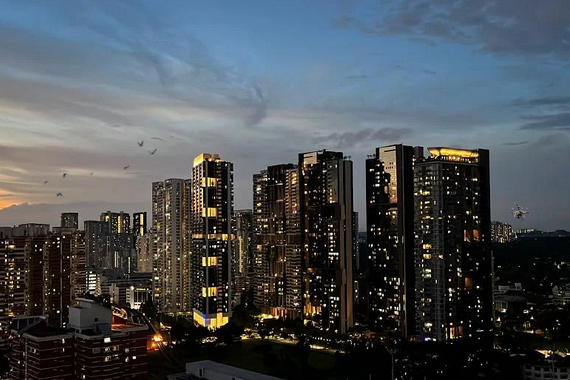drone_other: (510, 201, 530, 222)
